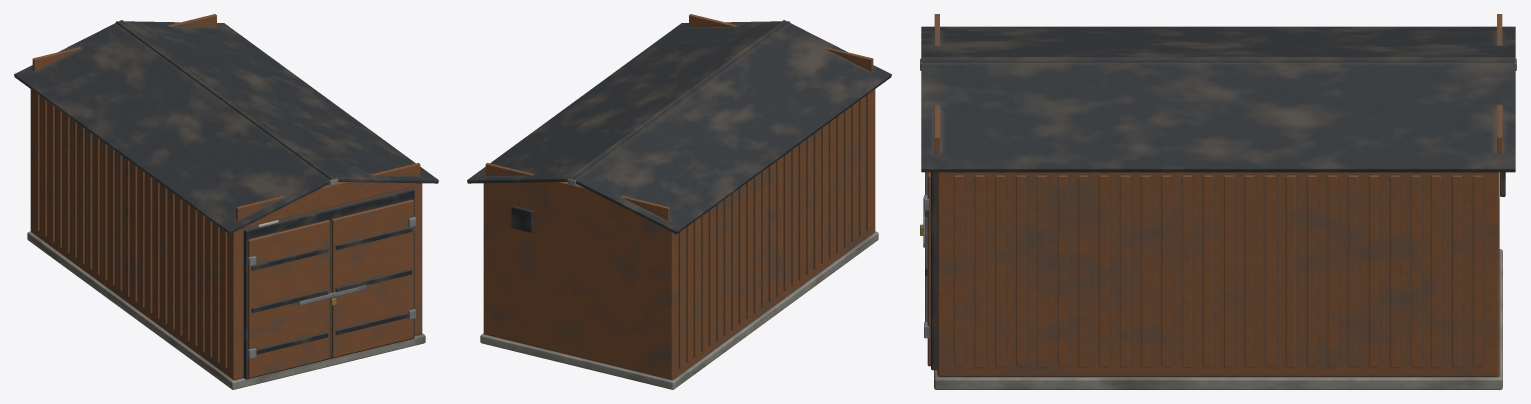
File: blaszak_2.glb
3 views of the same model, side by side, from view 1: azimuth 30°, elevation 25°; view 2: azimuth 150°, elevation 25°; view 3: azimuth 270°, elevation 25° (orthographic). The views are drawn at different scales.
Parts seen in each view (by area): view 1: Blaszak; view 2: Blaszak; view 3: Blaszak.
Part boxes in pixels (bbox=[...]): Blaszak: bbox=[14, 14, 438, 389]; Blaszak: bbox=[467, 14, 891, 389]; Blaszak: bbox=[920, 14, 1516, 389].
Size of the model in its own units: 3.11 by 2.72 by 5.52.
Materials: 2 (2 with a texture image).
